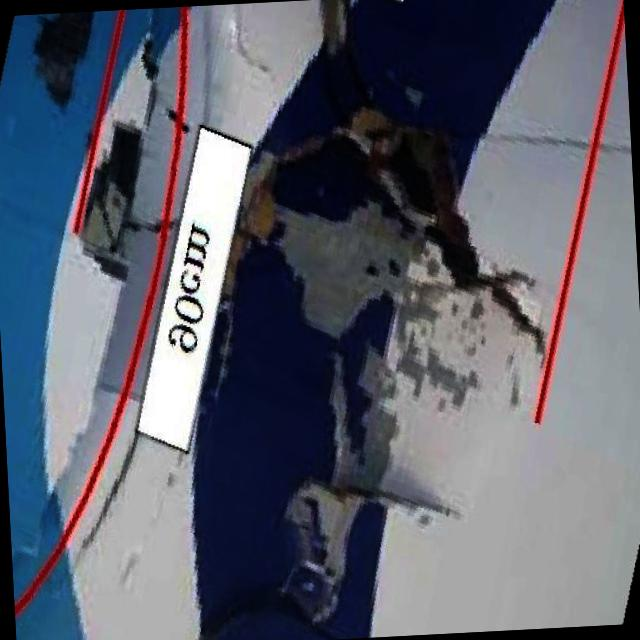crack: (276, 0, 550, 365)
